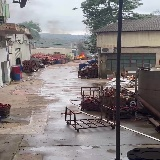fire: (76, 52, 84, 58)
